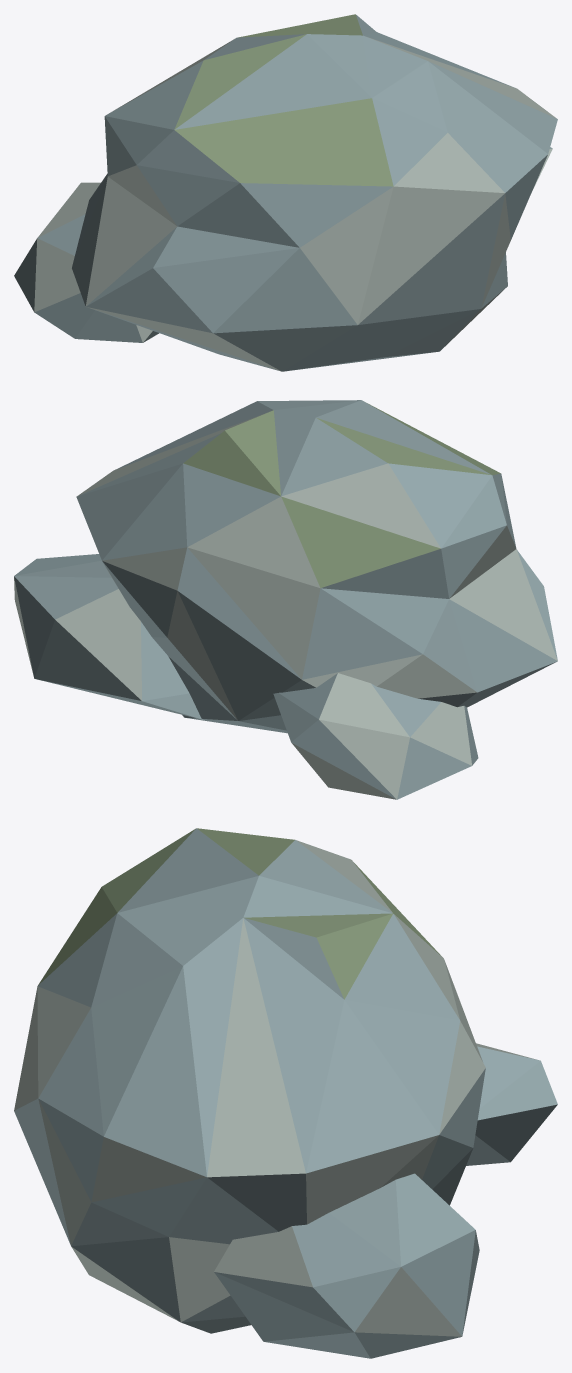
Rendered from coastal_rocks_lod1.glb.
3 views of the same model, one above another, from view 1: azimuth 30°, elevation 25°; view 2: azimuth 150°, elevation 25°; view 3: azimuth 270°, elevation 25° (orthographic). The views are drawn at different scales.
Parts seen in each view (by area): view 1: Stratified shore stone, Stratified shore stone.002; view 2: Stratified shore stone, Stratified shore stone.001, Stratified shore stone.002; view 3: Stratified shore stone, Stratified shore stone.001, Stratified shore stone.002.
Boxes of the visible parts, x1=… form: Stratified shore stone: x1=72, y1=14, x2=557, y2=371; Stratified shore stone.002: x1=14, y1=182, x2=158, y2=342; Stratified shore stone: x1=76, y1=400, x2=557, y2=733; Stratified shore stone.001: x1=14, y1=554, x2=203, y2=719; Stratified shore stone.002: x1=273, y1=673, x2=478, y2=799; Stratified shore stone: x1=14, y1=828, x2=485, y2=1333; Stratified shore stone.001: x1=214, y1=1173, x2=479, y2=1358; Stratified shore stone.002: x1=466, y1=1043, x2=557, y2=1165.
Bounding box in the file's own units: 2.08 × 1.12 × 1.53.
